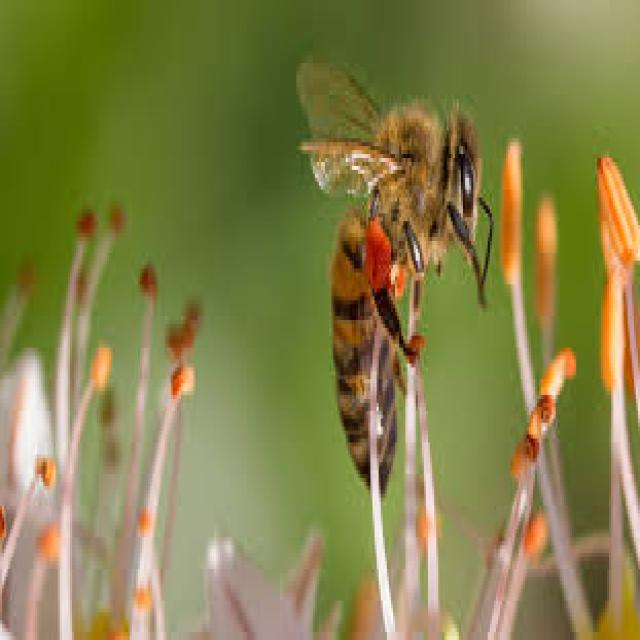Bees: (294, 53, 496, 498)
